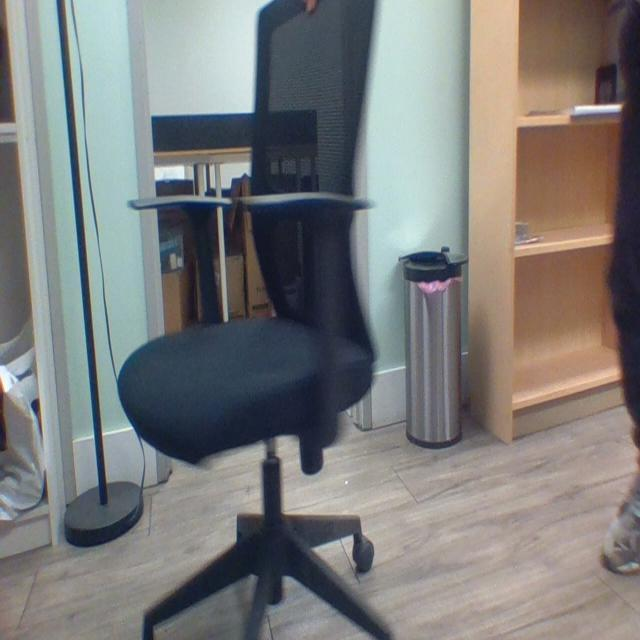chair: (116, 2, 397, 640)
